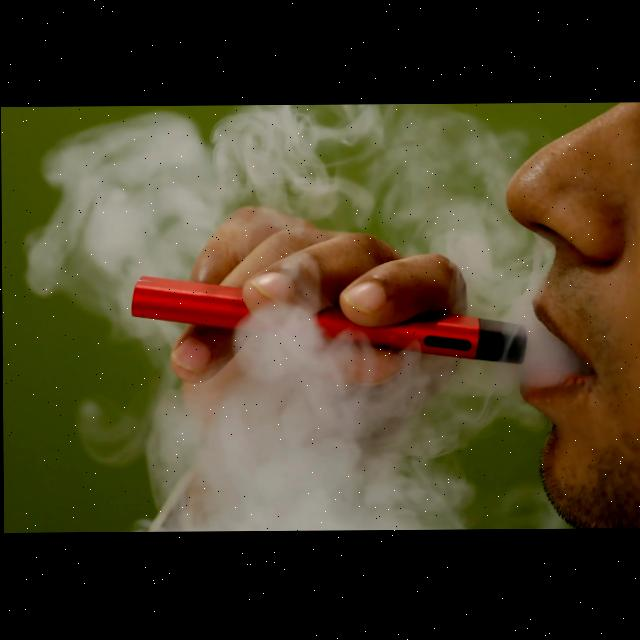vape: (131, 273, 529, 369)
